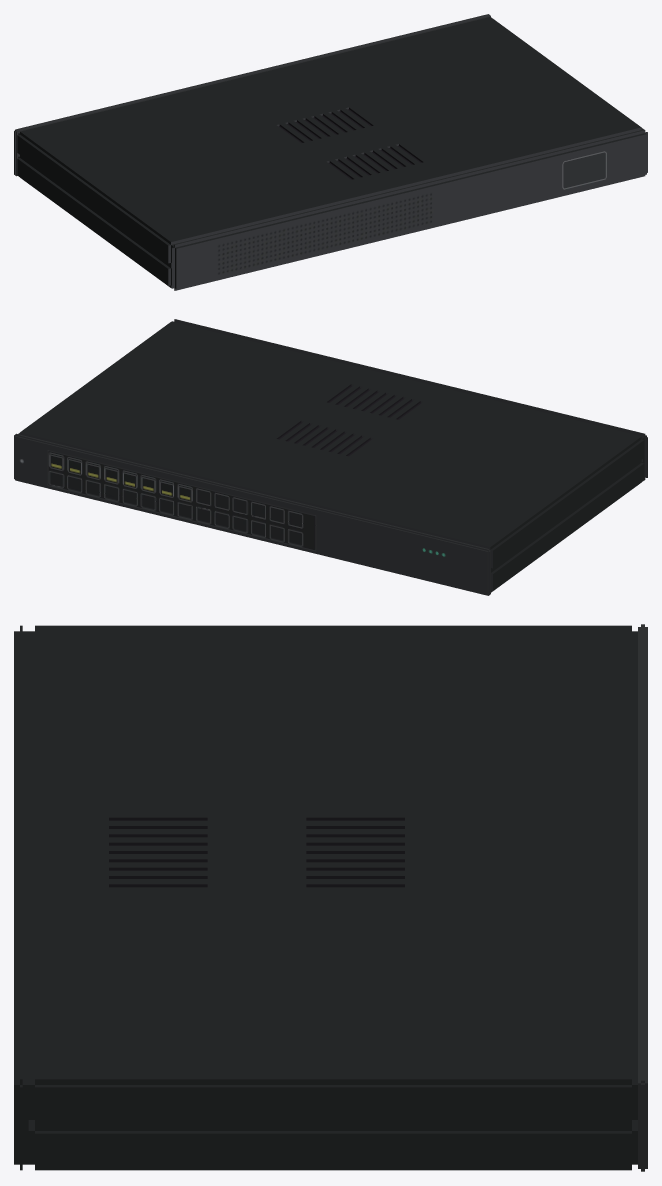
The model's file is netgear-m4250-av-switch.glb.
3 renders of one model, top to bottom at view 1: azimuth 30°, elevation 25°; view 2: azimuth 150°, elevation 25°; view 3: azimuth 270°, elevation 25°, orthographic. The views are drawn at different scales.
Parts seen in each view (by area): view 1: netgear-m4250-av-switch-body; view 2: netgear-m4250-av-switch-body; view 3: netgear-m4250-av-switch-body.
Part boxes in pixels (bbox=[...]): netgear-m4250-av-switch-body: bbox=[14, 14, 647, 290]; netgear-m4250-av-switch-body: bbox=[14, 319, 647, 595]; netgear-m4250-av-switch-body: bbox=[14, 624, 647, 1171].
Bounding box in the file's own units: 0.44 × 0.0432 × 0.257.
1 material, 1 textured.
